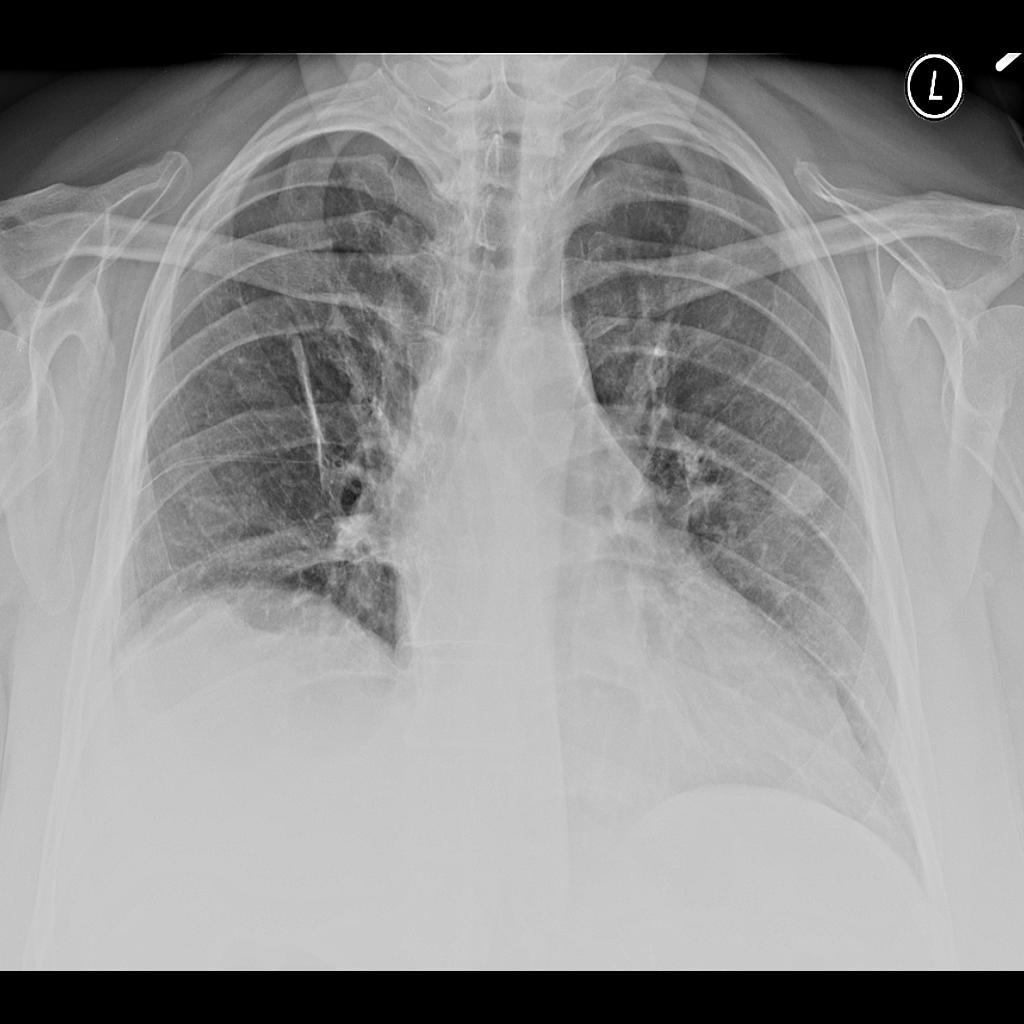Nodule: (770, 451, 834, 532)
